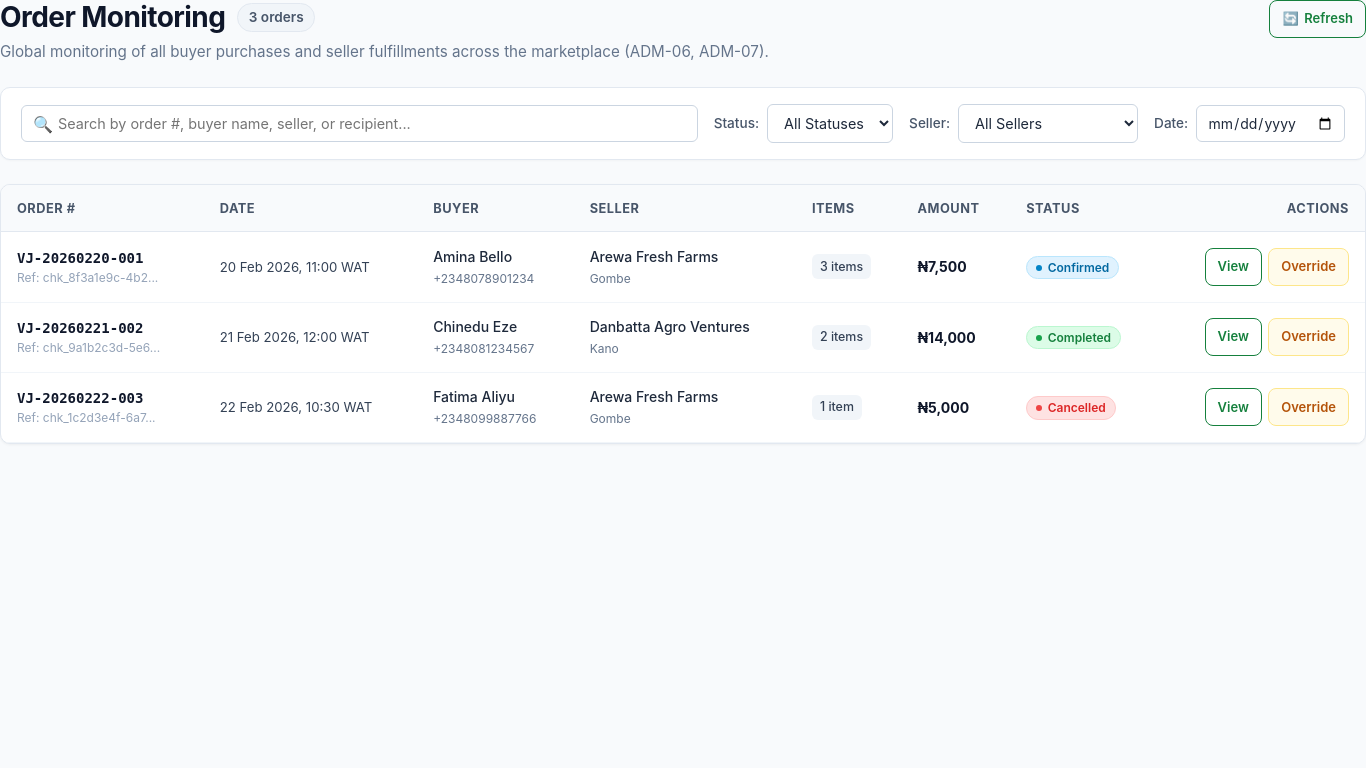
Test: FE-101 / FE-102 (ADM-06, ADM-07): Admin Orders Monitoring & Status Override › 4. Order Status Override (FE-102 / ADM-07) › opens override modal and enforces mandatory target status selection
# Click Override button on row 1
Click the button with test id "override-status-btn-1" at (1309, 267), box x1=1268 y1=248 x2=1349 y2=286
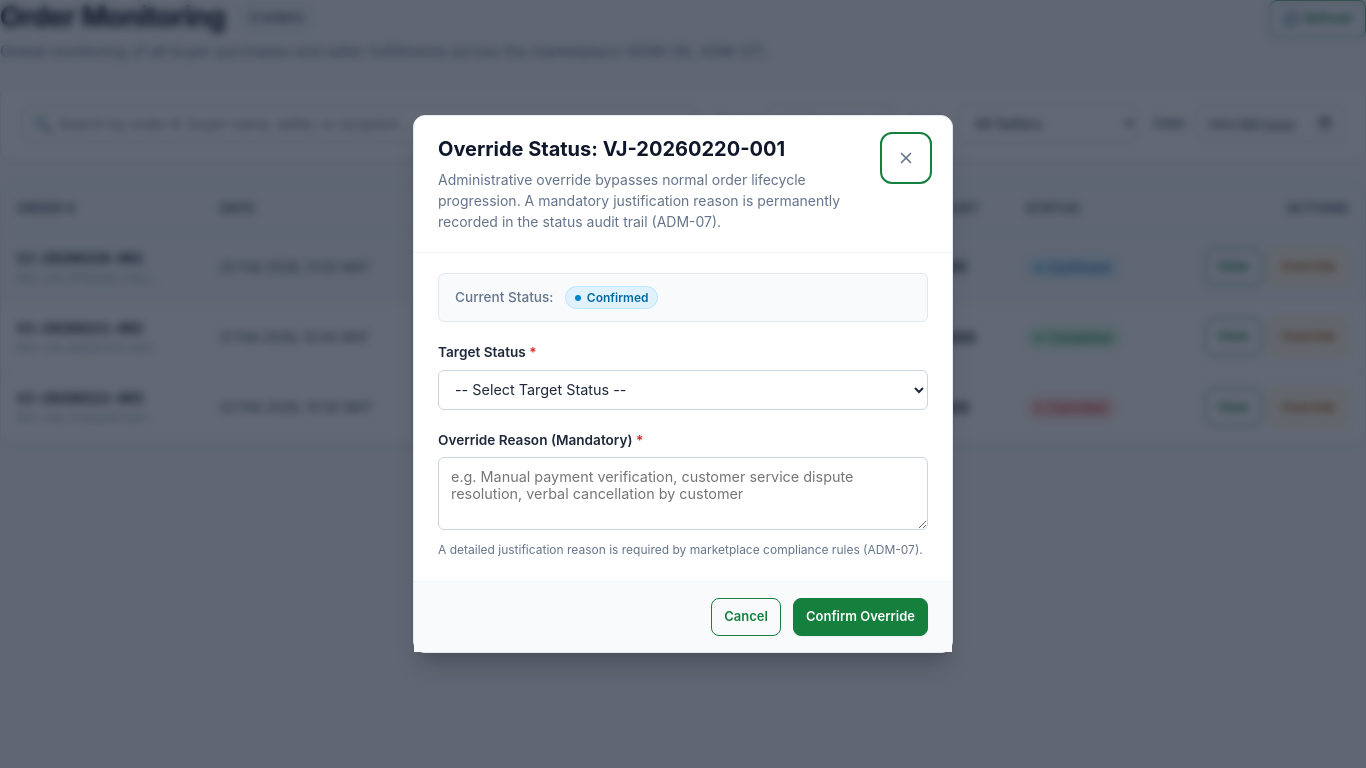
Result: the dialog with test id "override-status-modal" is shown at x1=413 y1=116 x2=953 y2=652
Result: the message with test id "override-current-status-badge" reads "Confirmed" at x1=587 y1=290 x2=648 y2=305
# Attempt to submit without selecting a target status or entering reason
Click the button with test id "override-modal-submit-btn" at (860, 616), box x1=793 y1=598 x2=928 y2=636
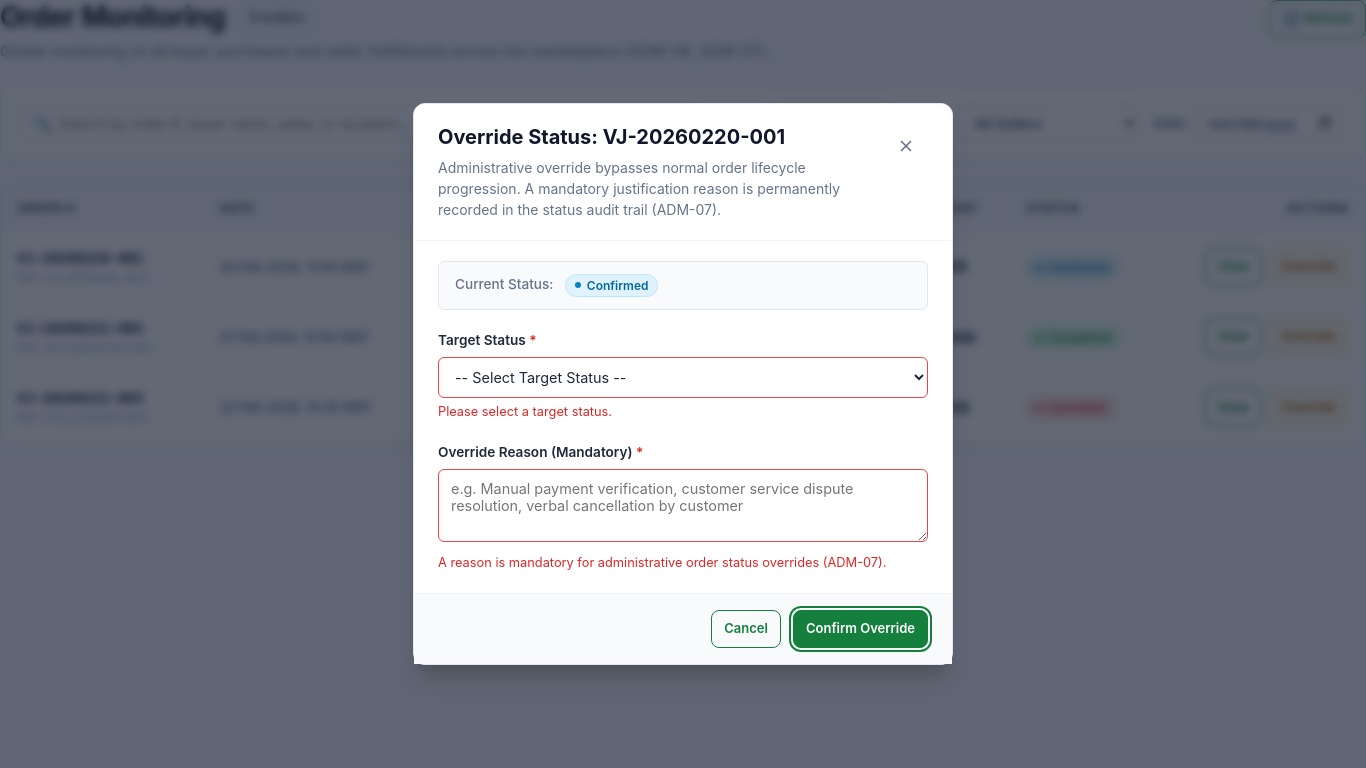
Result: the text with test id "override-status-error" shows "Please select a target status" at x1=438 y1=404 x2=612 y2=418
Result: the text with test id "override-reason-error" shows "A reason is mandatory" at x1=438 y1=554 x2=886 y2=570
